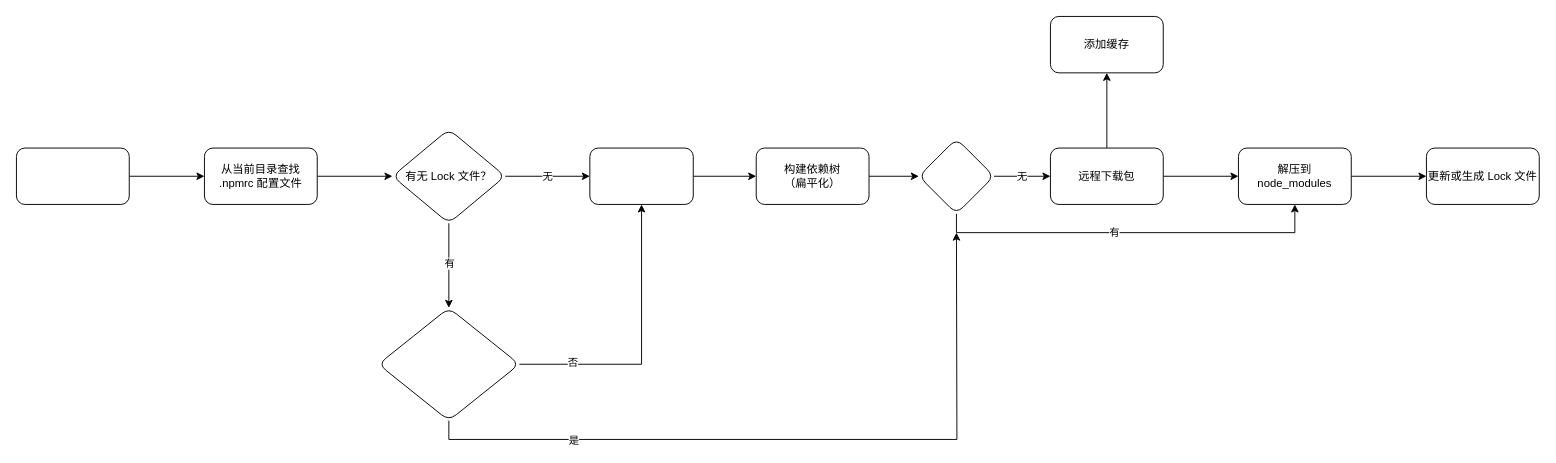
Some shapes in this 1556 by 463 pixel diagram are drawn without their labels. Each missing label, with the centre of its shape:
"npm install" goes at [72,175].
"是否和 package.json 匹配" goes at [448,364].
"有无缓存" goes at [956,176].
"远程获取包信息" goes at [641,175].
